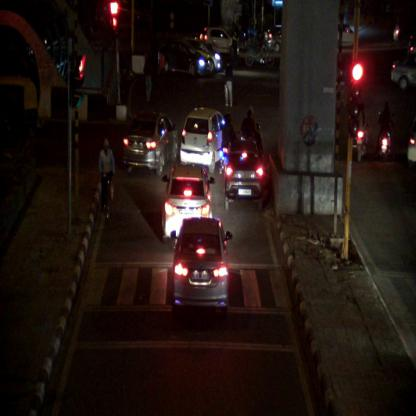car: (170, 217, 233, 318), (163, 162, 216, 242), (122, 112, 176, 176), (180, 108, 229, 172), (226, 140, 262, 212), (160, 42, 207, 78), (186, 38, 219, 72), (200, 26, 236, 56)
motorcycle: (352, 96, 369, 166), (377, 104, 392, 163)
